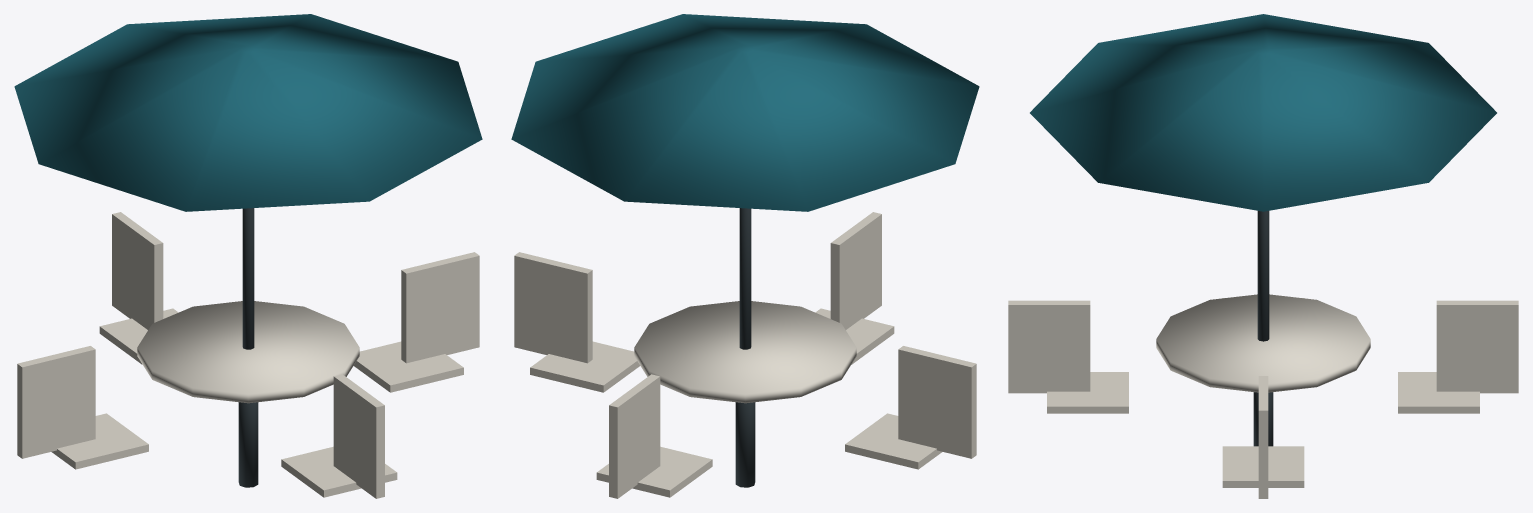
The model's file is parasol_table.glb.
3 renders of one model, left to right at view 1: azimuth 30°, elevation 25°; view 2: azimuth 150°, elevation 25°; view 3: azimuth 270°, elevation 25°, orthographic. The views are drawn at different scales.
Parts seen in each view (by area): view 1: parasol_table; view 2: parasol_table; view 3: parasol_table.
Boxes of the visible parts, x1,y1,x2,y2 form: parasol_table: (14, 14, 482, 498); parasol_table: (511, 14, 979, 498); parasol_table: (1008, 14, 1518, 498).
Size of the model in its own units: 2.62 by 2.37 by 2.62.
